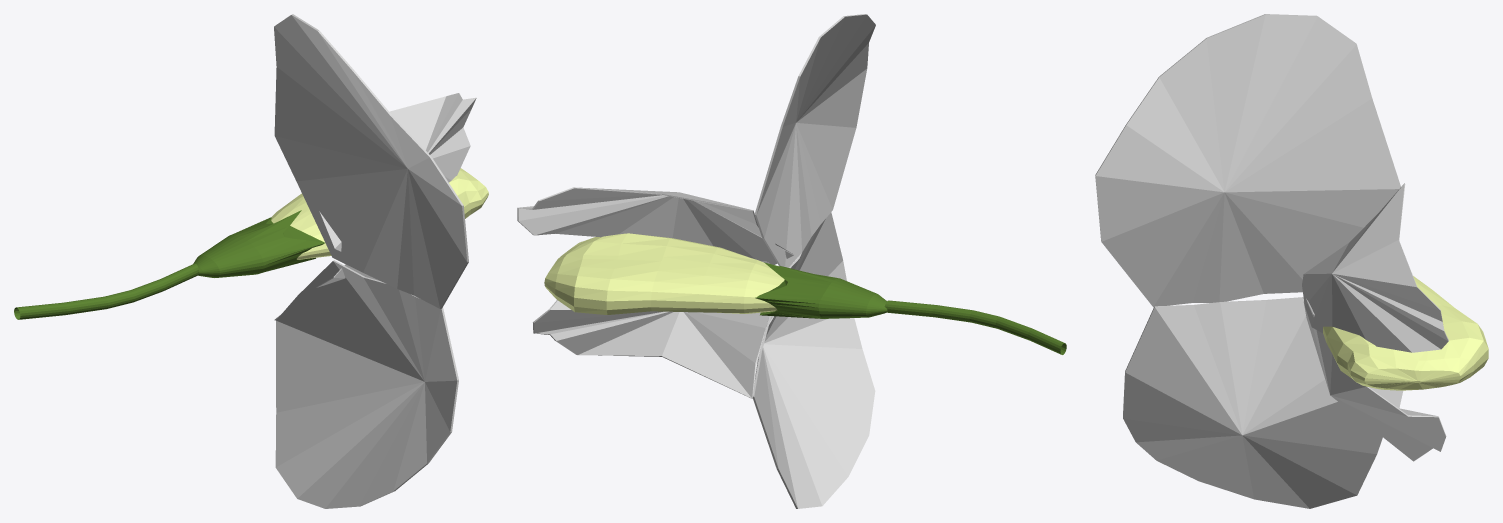
The model's file is SoybeanFlower_open_white.obj.
The picture shows the model from 3 angles, left to right: view 1: azimuth 30°, elevation 25°; view 2: azimuth 150°, elevation 25°; view 3: azimuth 270°, elevation 25°; orthographic projection. The views are drawn at different scales.
Visible parts, largest first — view 1: petals, sepal; view 2: petals, sepal; view 3: petals.
Part boxes in pixels (bbox=[...]): petals: bbox=[271, 14, 488, 508]; sepal: bbox=[14, 210, 324, 319]; petals: bbox=[517, 14, 875, 508]; sepal: bbox=[755, 262, 1066, 354]; petals: bbox=[1095, 14, 1488, 508].
Bounding box in the file's own units: 0.7348 × 0.6692 × 0.4835.
